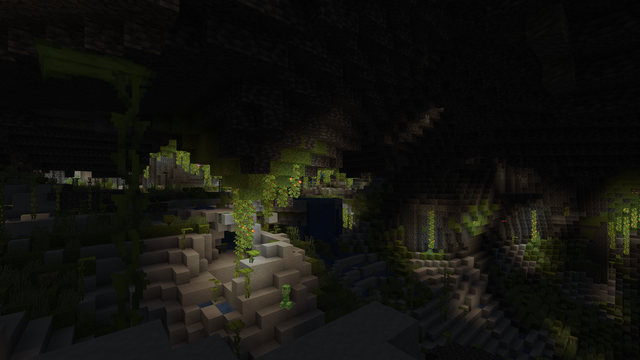creepers: (280, 282, 291, 309)
